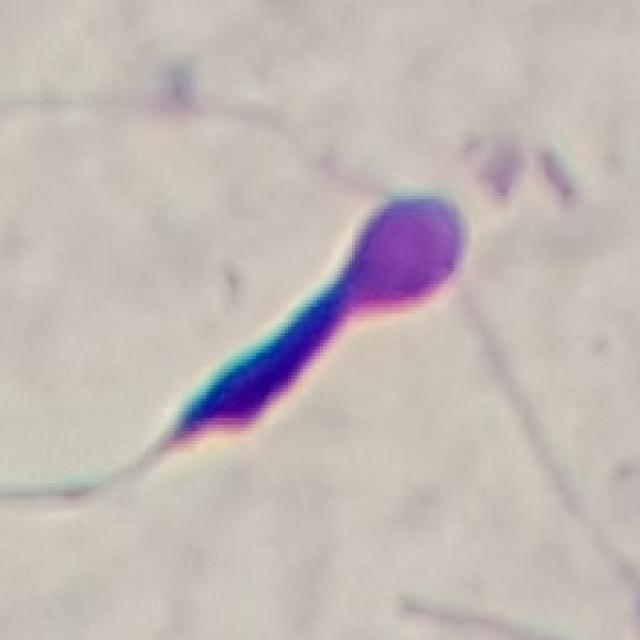abnormal sperm: (0, 173, 489, 503)
